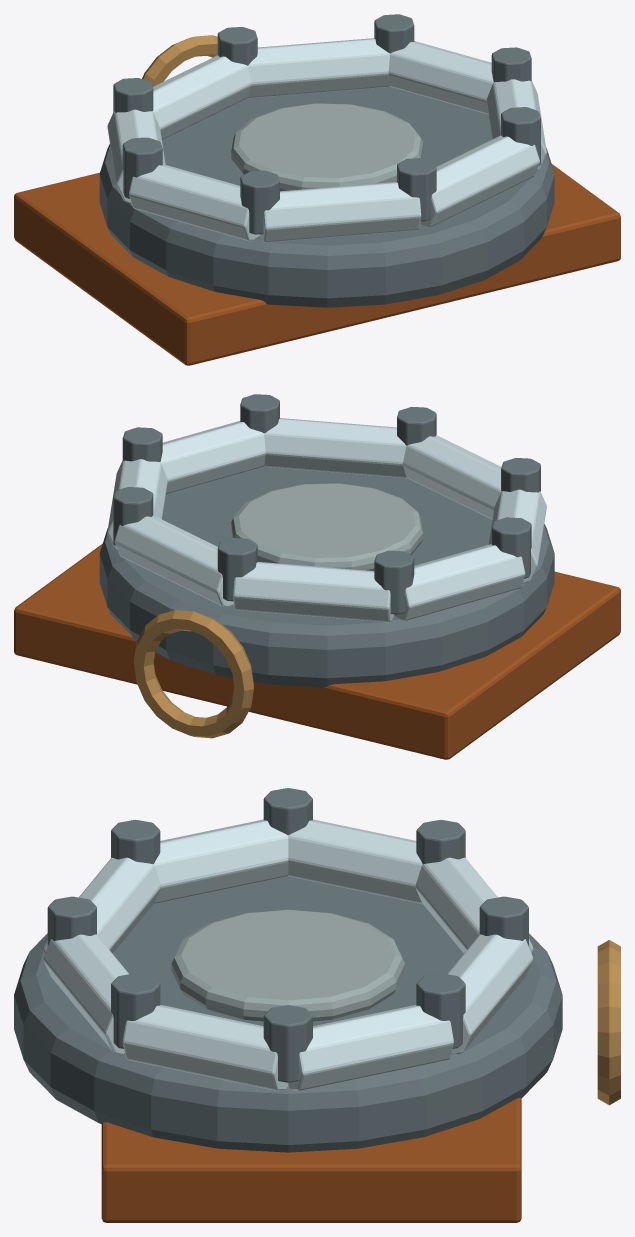
File: hunting_traps.glb
3 views of the same model, one above another, from view 1: azimuth 30°, elevation 25°; view 2: azimuth 150°, elevation 25°; view 3: azimuth 270°, elevation 25° (orthographic). The views are drawn at different scales.
Parts seen in each view (by area): view 1: trap_steel_base, trap_wood_mount, trap_pressure_plate, jaw_arc_-1_2, jaw_arc_1_1, jaw_arc_-1_3, jaw_arc_-1_1, jaw_arc_1_0, jaw_arc_1_2, jaw_arc_1_3, jaw_arc_-1_0, jaw_-1_3 (+8 smaller); view 2: trap_steel_base, trap_wood_mount, trap_pressure_plate, jaw_arc_1_2, jaw_arc_-1_1, trap_rope_loop, jaw_arc_1_3, jaw_arc_1_1, jaw_arc_-1_0, jaw_arc_-1_2, jaw_arc_-1_3, jaw_arc_1_0 (+8 smaller); view 3: trap_steel_base, trap_wood_mount, trap_pressure_plate, jaw_arc_1_0, jaw_arc_-1_0, jaw_arc_-1_3, jaw_arc_1_3, jaw_arc_1_1, jaw_arc_-1_1, jaw_arc_1_2, jaw_arc_-1_2, trap_rope_loop (+8 smaller).
Part boxes in pixels (box(x1,y1,x2,y2)): trap_steel_base: box(99, 87, 554, 307); trap_wood_mount: box(14, 164, 620, 365); trap_pressure_plate: box(231, 103, 423, 191); jaw_arc_-1_2: box(260, 182, 421, 242); jaw_arc_1_1: box(247, 38, 390, 98); jaw_arc_-1_3: box(129, 164, 259, 241); jaw_arc_-1_1: box(420, 135, 539, 226); jaw_arc_1_0: box(388, 41, 493, 114); jaw_arc_1_2: box(152, 55, 251, 139); jaw_arc_1_3: box(107, 109, 165, 203); jaw_arc_-1_0: box(486, 79, 546, 170); jaw_-1_3: box(240, 170, 279, 234); trap_steel_base: box(99, 466, 554, 687); trap_wood_mount: box(14, 544, 620, 759); trap_pressure_plate: box(231, 483, 423, 570); jaw_arc_1_2: box(233, 562, 394, 622); jaw_arc_-1_1: box(264, 418, 406, 478); trap_rope_loop: box(134, 610, 253, 738); jaw_arc_1_3: box(394, 544, 525, 620); jaw_arc_1_1: box(114, 515, 233, 606); jaw_arc_-1_0: box(160, 421, 265, 494); jaw_arc_-1_2: box(402, 435, 501, 519); jaw_arc_-1_3: box(488, 489, 546, 583); jaw_arc_1_0: box(107, 459, 167, 550); trap_steel_base: box(14, 876, 562, 1152); trap_wood_mount: box(101, 1097, 521, 1222); trap_pressure_plate: box(171, 909, 404, 1021); jaw_arc_1_0: box(288, 1005, 453, 1090); jaw_arc_-1_0: box(122, 1004, 288, 1090); jaw_arc_-1_3: box(154, 819, 288, 903); jaw_arc_1_3: box(288, 819, 422, 904); jaw_arc_1_1: box(447, 934, 533, 1054); jaw_arc_-1_1: box(43, 934, 128, 1054); jaw_arc_1_2: box(415, 857, 533, 953); jaw_arc_-1_2: box(43, 857, 160, 953); trap_rope_loop: box(597, 940, 620, 1105).
Size of the model in its own units: 1.04 by 0.363 by 1.04.
